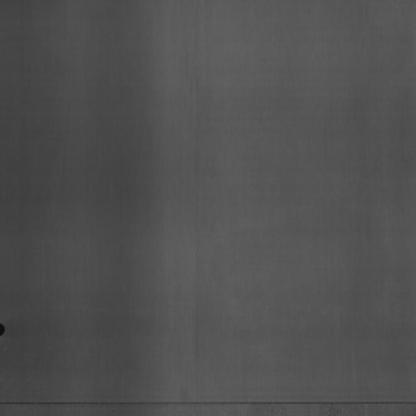punching_hole: (0, 323, 5, 339)
welding_line: (0, 389, 415, 410)
